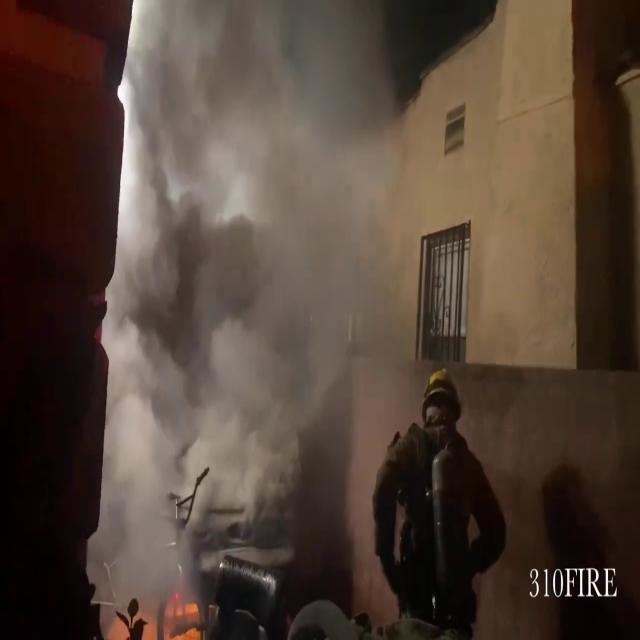Fire: (102, 581, 214, 640)
Smoke: (94, 0, 428, 566)
